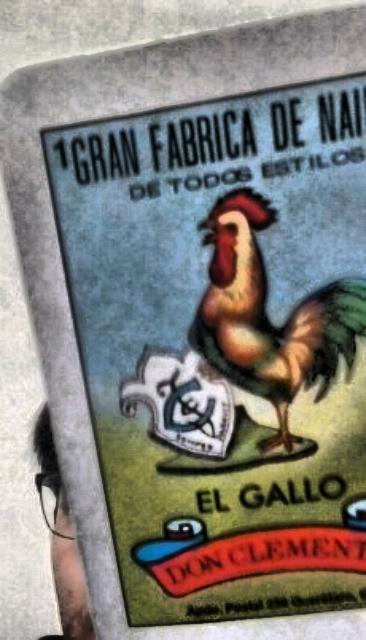El Gallo: (44, 74, 365, 627)
